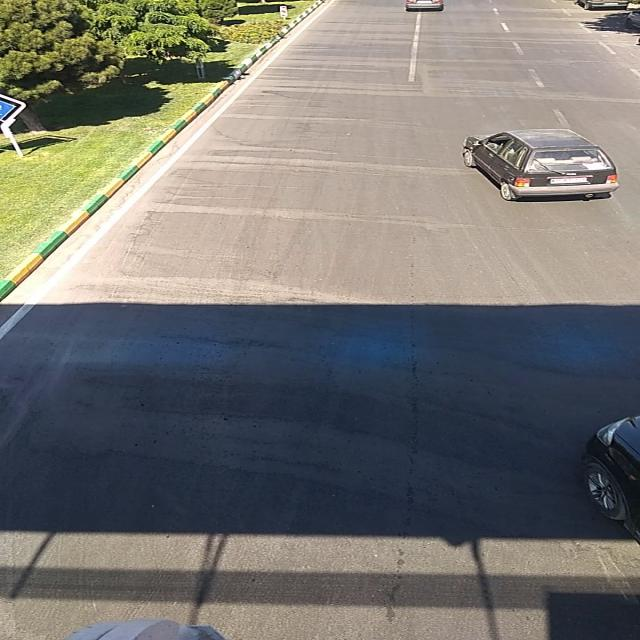car: (460, 125, 620, 202), (404, 1, 444, 10)
